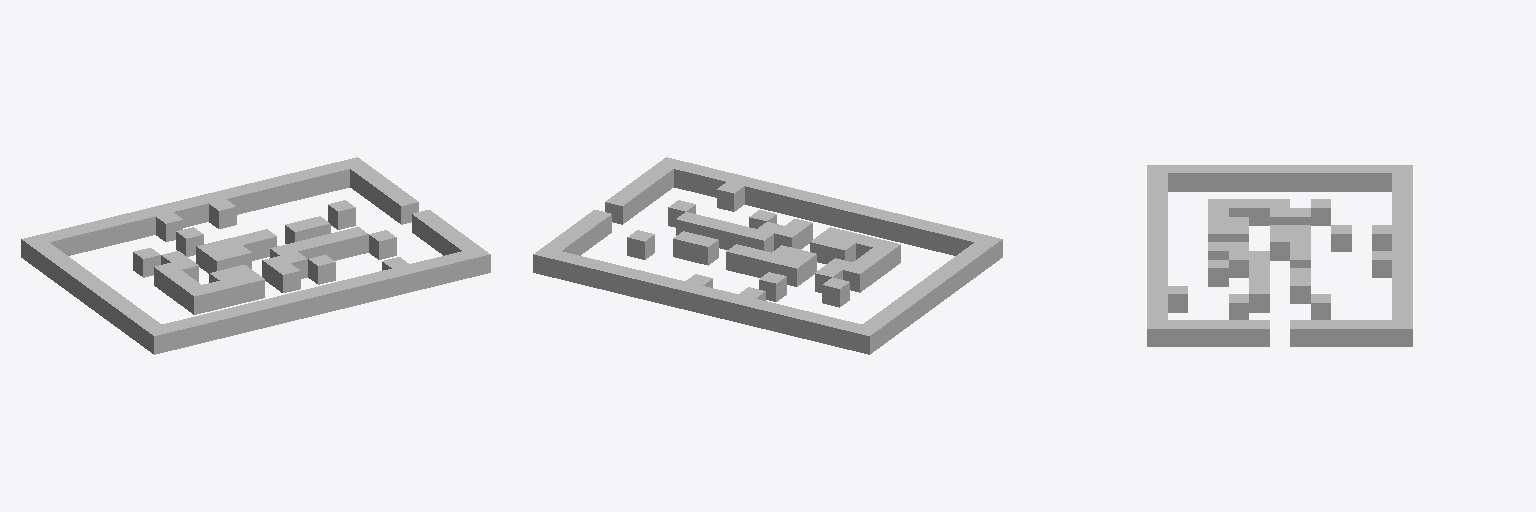
File: map13.obj
3 views of the same model, side by side, from view 1: azimuth 30°, elevation 25°; view 2: azimuth 150°, elevation 25°; view 3: azimuth 270°, elevation 25° (orthographic).
Visible parts, largest first — view 1: mergedBlocks; view 2: mergedBlocks; view 3: mergedBlocks.
Boxes of the visible parts, x1=… form: mergedBlocks: x1=21, y1=157, x2=490, y2=354; mergedBlocks: x1=533, y1=157, x2=1002, y2=354; mergedBlocks: x1=1147, y1=165, x2=1412, y2=346.
Bounding box in the file's own units: 19 × 1 × 13.